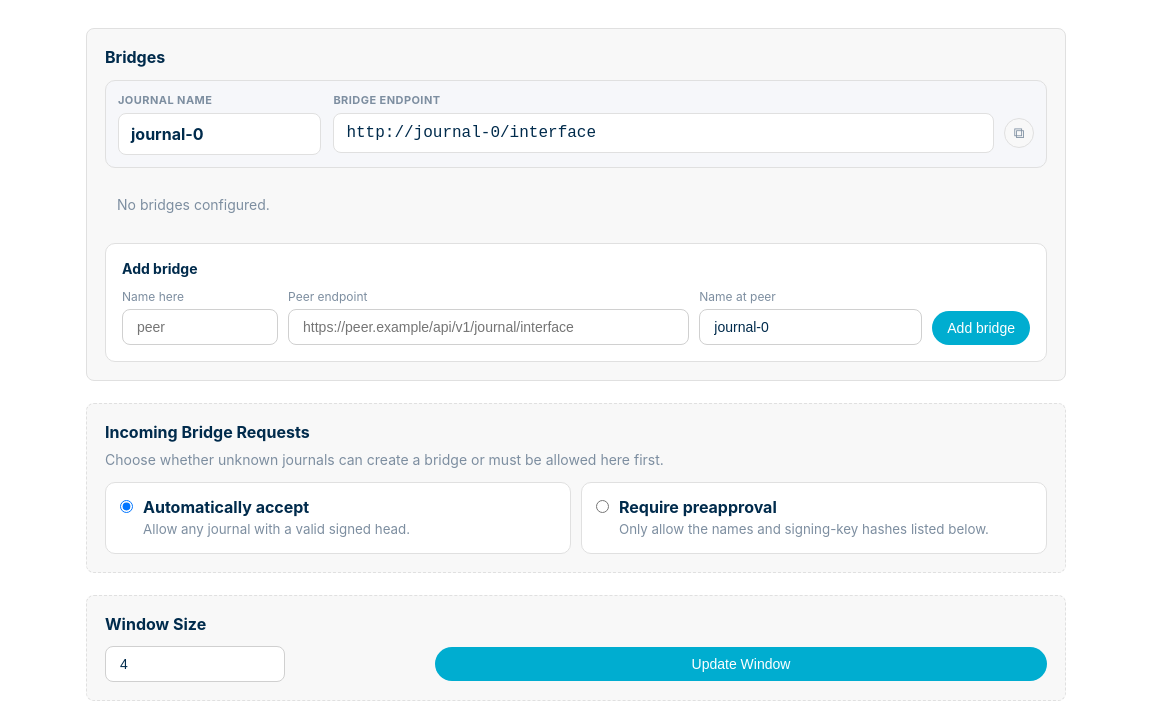
it: AdminPanel › rejects non-http remote endpoint URLs before saving
The image size is (1152, 702).
Type "beagle" into the field with placeholder "peer" at (200, 327), box [122,309,278,345]
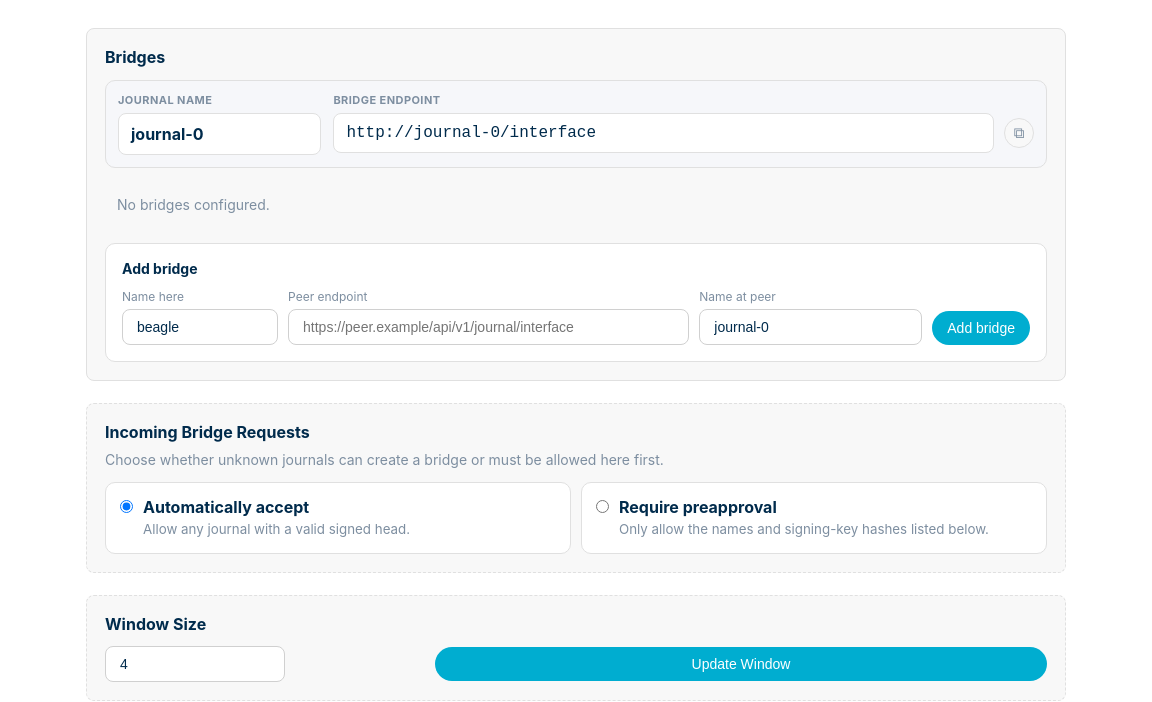
Type "ftp://beagle.sync-web.org/api/v1/journal/interface" into the field with placeholder "https://peer.example/api/v1/journal/interface" at (489, 327), box [288,309,689,345]
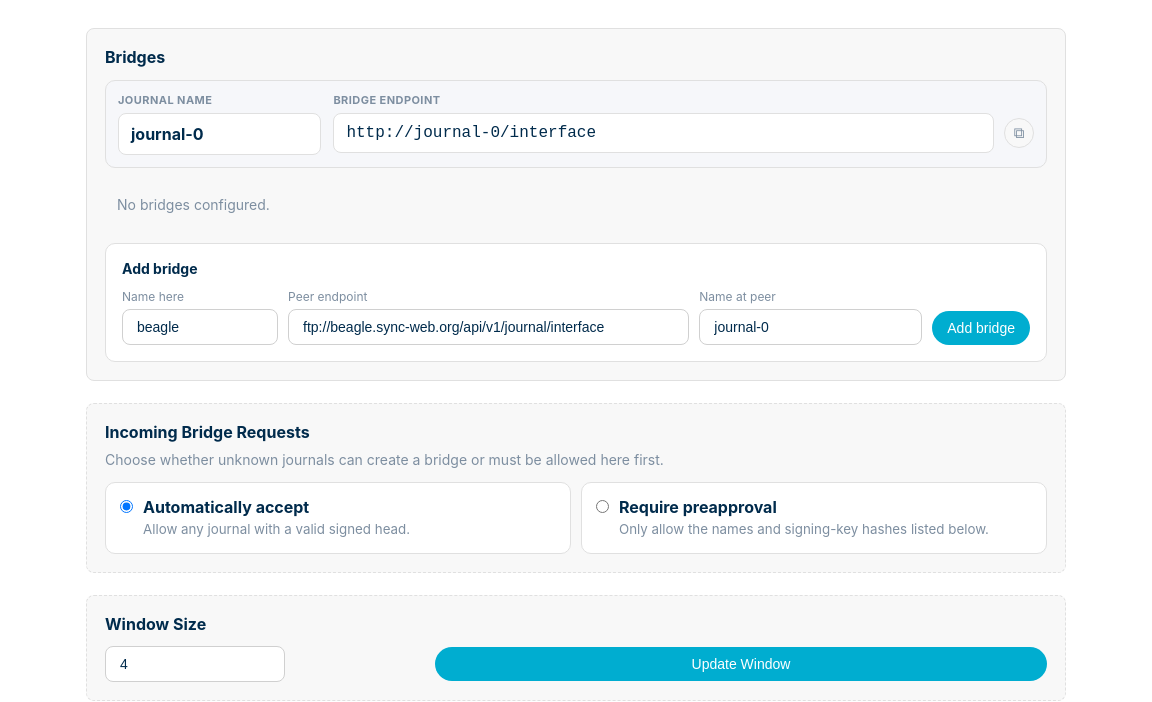
Click the button "Add bridge" at (981, 328), box [932,311,1030,345]
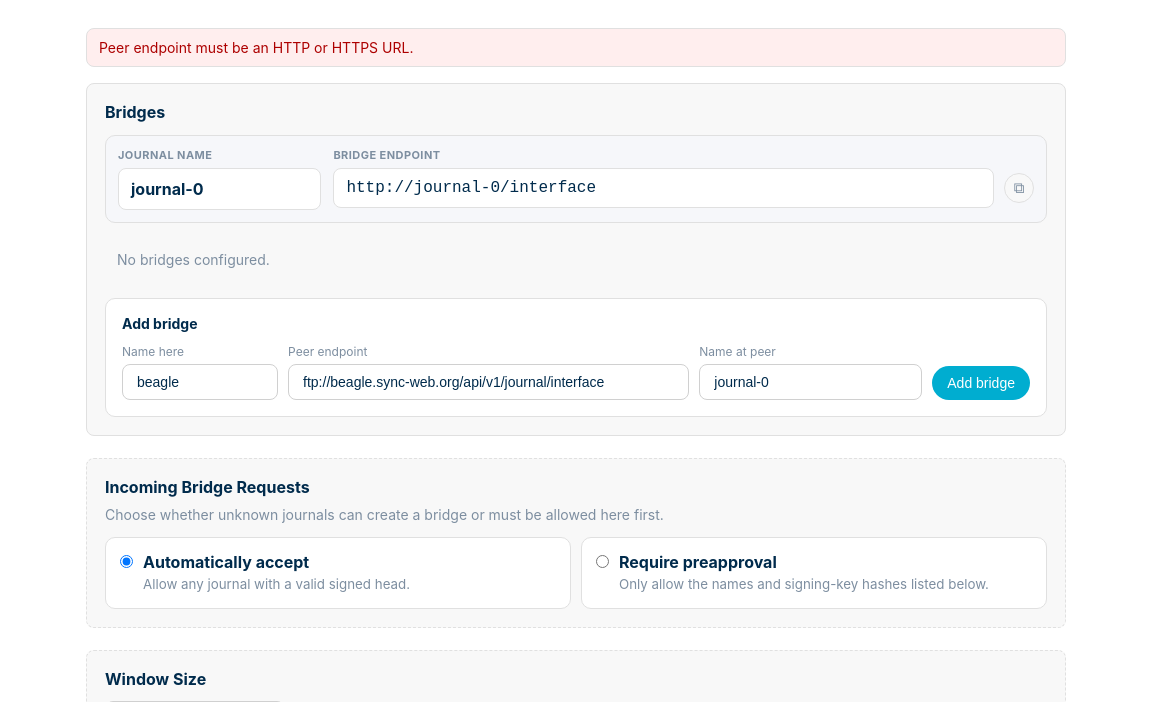
expect the text "Peer endpoint must be an HTTP or HTTPS URL." is shown: met, box [86,28,1066,67]
